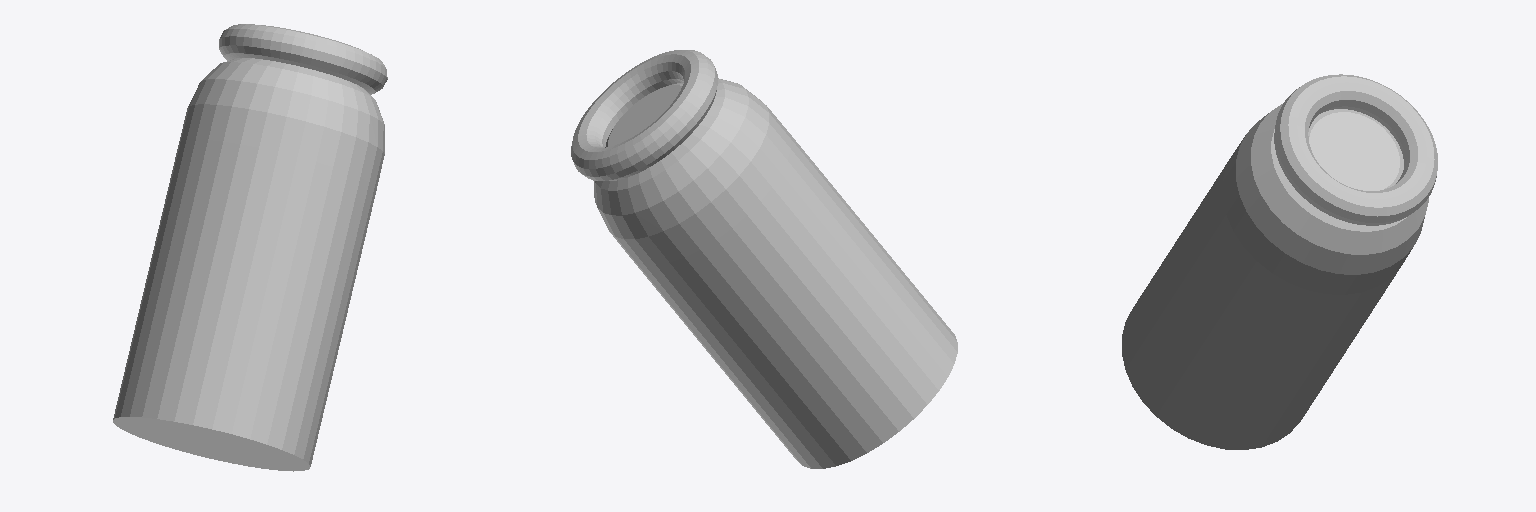
The model's file is balloon_gasbottle.obj.
The picture shows the model from 3 angles: view 1: azimuth 30°, elevation 25°; view 2: azimuth 150°, elevation 25°; view 3: azimuth 270°, elevation 25°; orthographic projection.
Parts seen in each view (by area): view 1: Cylinder; view 2: Cylinder; view 3: Cylinder.
Part boxes in pixels (bbox=[...]): Cylinder: bbox=[113, 24, 387, 471]; Cylinder: bbox=[571, 50, 957, 468]; Cylinder: bbox=[1122, 74, 1437, 449].
Bounding box in the file's own units: 3.75 × 4.67 × 3.35.